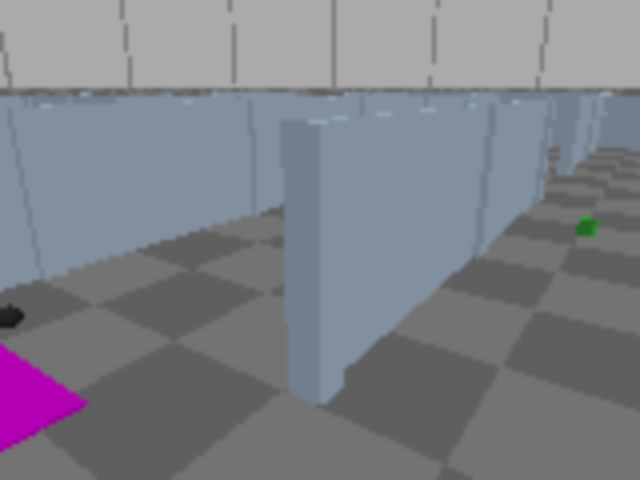goal_zone: (0, 340, 87, 478)
puck: (0, 300, 25, 335), (576, 216, 599, 237)
